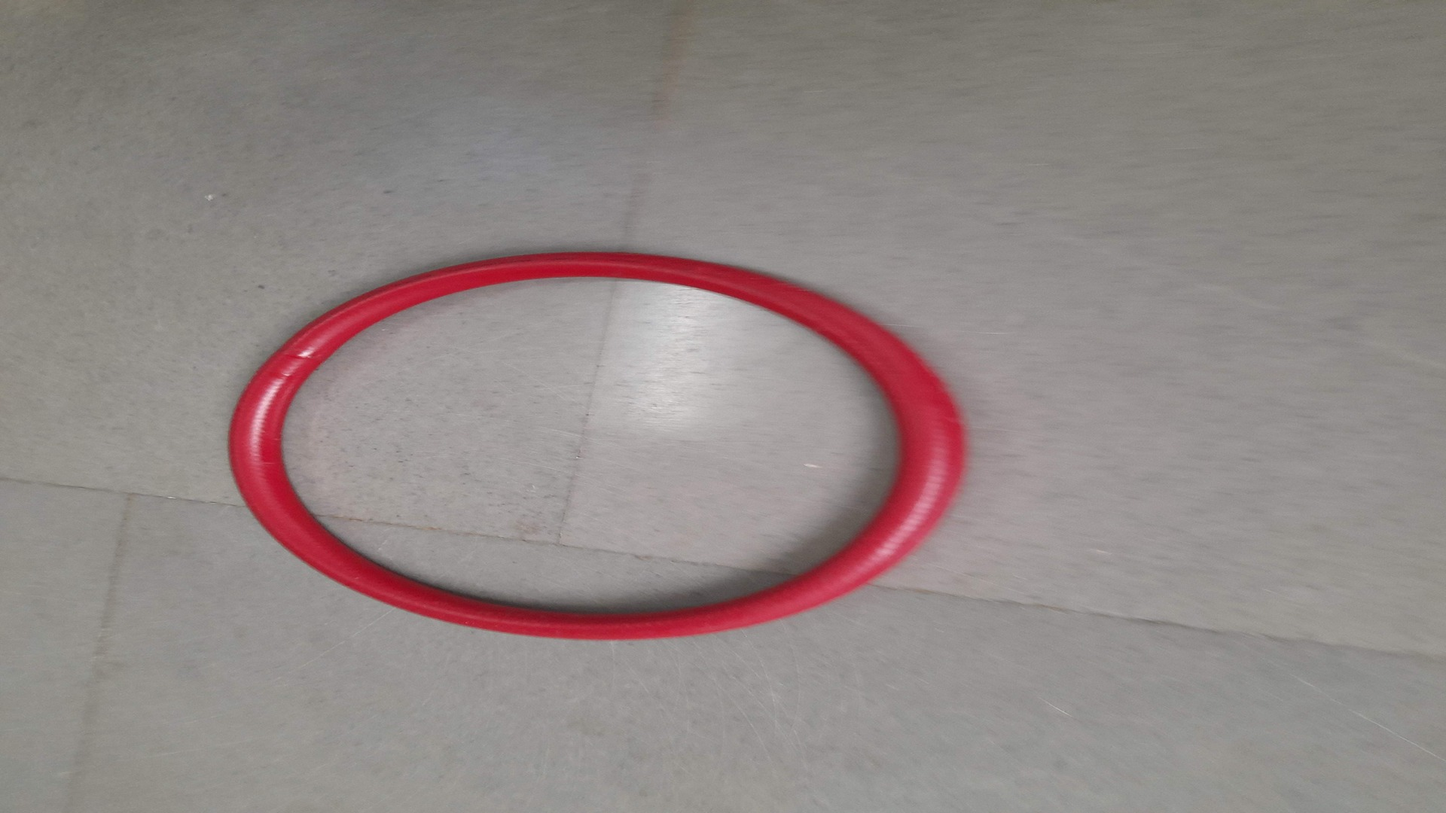Red ring: (235, 251, 965, 641)
